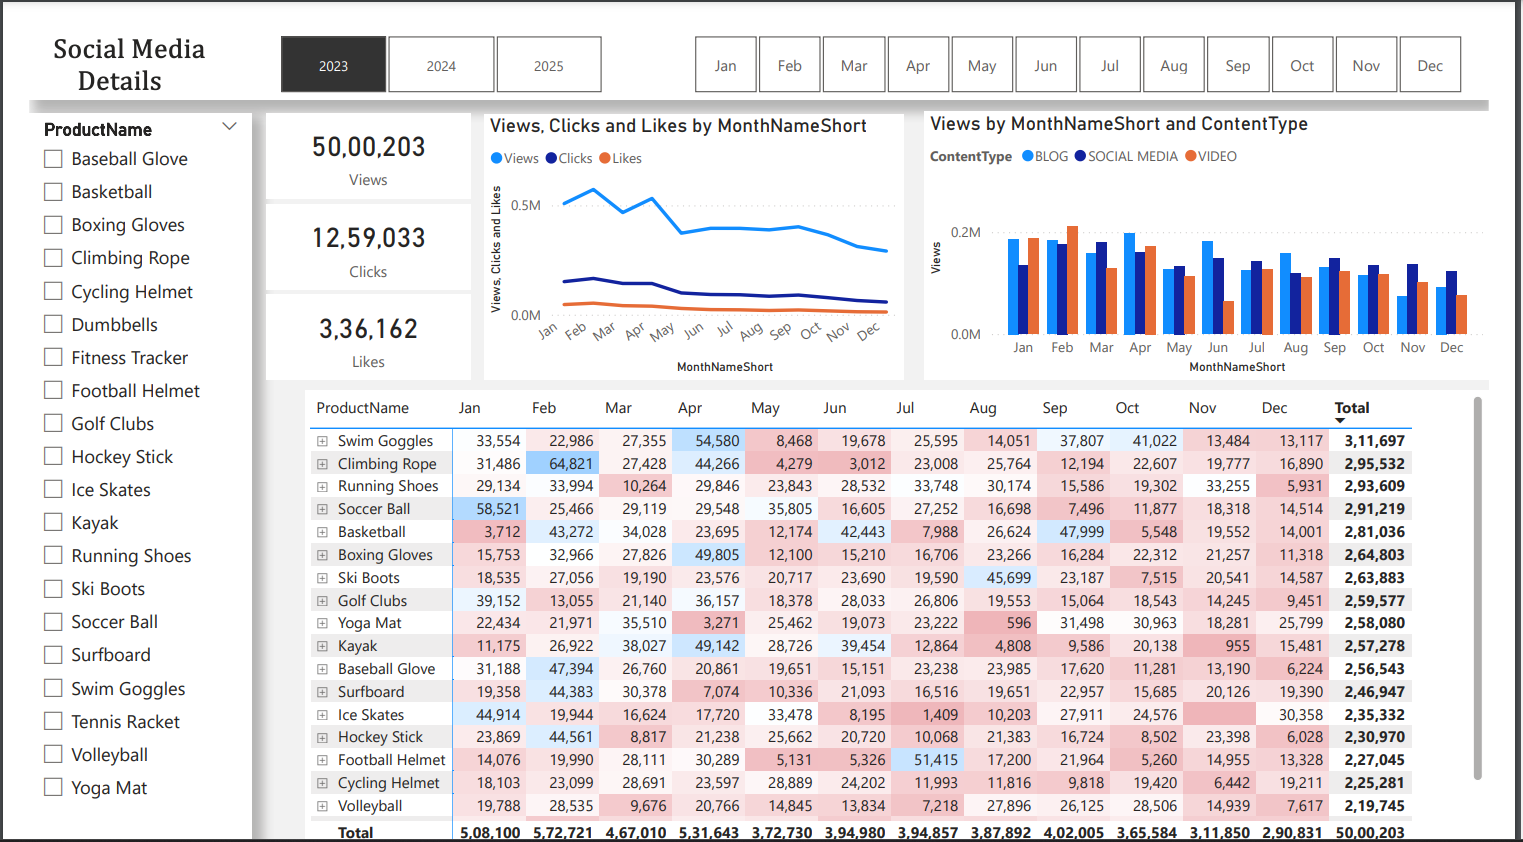

The page's visual inventory and layout, read from the dashboard file:
{"tool":"powerbi","page":{"name":"Social Media Details","canvas":[1280,720],"ordinal":2},"visuals":[{"type":"textbox","box":[0,0,1280.3,63.1],"z":0},{"type":"slicer","fields":{"Values":["dim_products.ProductName"]},"box":[0,74.1,194.9,646.3],"z":1000},{"type":"card","fields":{"Values":["Calculations.Views"]},"box":[207.9,73.7,178.9,75],"z":2000},{"type":"card","fields":{"Values":["Calculations.Clicks"]},"box":[207.9,153.9,178.9,75],"z":3000},{"type":"card","fields":{"Values":["Calculations.Likes"]},"box":[207.9,232.9,178.9,75],"z":4000},{"type":"slicer","fields":{"Values":["Calendar.Year"]},"box":[194.9,0,330.7,63.1],"z":5000},{"type":"slicer","fields":{"Values":["Calendar.MonthNameShort"]},"box":[558.5,0,721.8,63.1],"z":6000},{"type":"lineChart","fields":{"Category":["Calendar.MonthNameShort"],"Y":["Calculations.Views","Calculations.Clicks","Calculations.Likes"]},"box":[398.7,75,368.4,232.9],"z":7000},{"type":"clusteredColumnChart","fields":{"Category":["Calendar.MonthNameShort"],"Y":["Calculations.Views"],"Series":["fact_engagement_data.ContentType"]},"box":[785,73.3,495,235],"z":8000},{"type":"pivotTable","fields":{"Columns":["Calendar.MonthNameShort"],"Rows":["dim_products.ProductName","fact_engagement_data.ContentType"],"Values":["Calculations.Views"]},"box":[242.1,316.7,1038.2,403.5],"z":9000}]}

Visuals, with their boxes in screenshot pixels (x1, y1, x2, y2), scaled from the page's 1280x720 canvas onto the 1523x842 screenshot:
textbox: 0,0,1522,74
slicer - dim_products.ProductName: 0,87,232,841
card - Calculations.Views: 247,86,460,174
card - Calculations.Clicks: 247,180,460,268
card - Calculations.Likes: 247,272,460,360
slicer - Calendar.Year: 232,0,625,74
slicer - Calendar.MonthNameShort: 665,0,1522,74
lineChart - Calendar.MonthNameShort x Calculations.Views: 474,88,913,360
clusteredColumnChart - Calendar.MonthNameShort x Calculations.Views: 934,86,1522,361
pivotTable - Calendar.MonthNameShort x dim_products.ProductName: 288,370,1522,841
